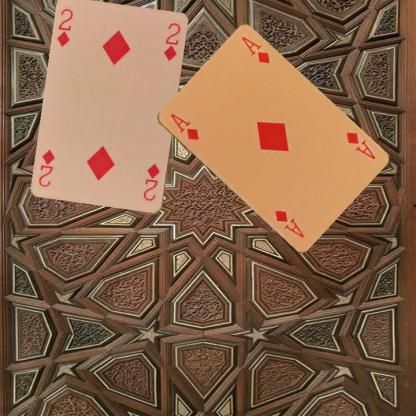2d: (141, 161, 162, 202), (54, 6, 74, 48)
Ad: (343, 129, 377, 162), (168, 111, 201, 141)
